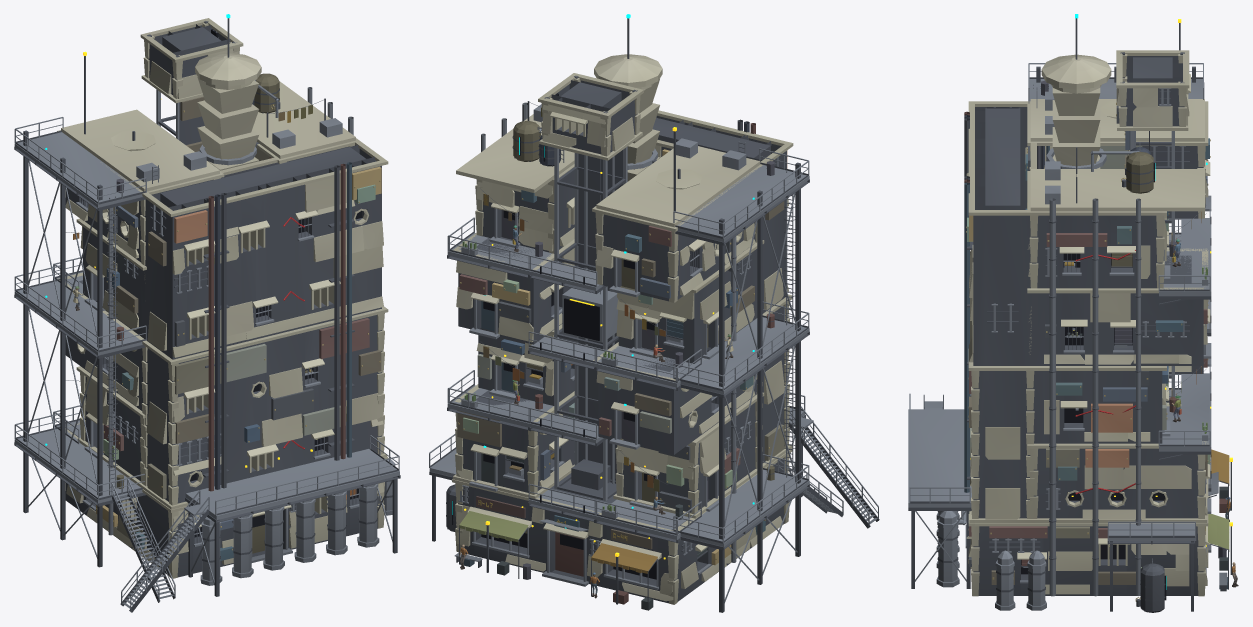
File: service_tenement.glb
3 renders of one model, left to right at view 1: azimuth 30°, elevation 25°; view 2: azimuth 150°, elevation 25°; view 3: azimuth 270°, elevation 25°, orthographic. The views are drawn at different scales.
Parts seen in each view (by area): view 1: service_tenement; view 2: service_tenement; view 3: service_tenement.
Boxes of the visible parts, left/top/right/bottom form: service_tenement: left=14, top=14, right=400, bottom=612; service_tenement: left=429, top=14, right=879, bottom=612; service_tenement: left=908, top=14, right=1238, bottom=612.
Size of the model in its own units: 23.73 by 36.81 by 20.81.
